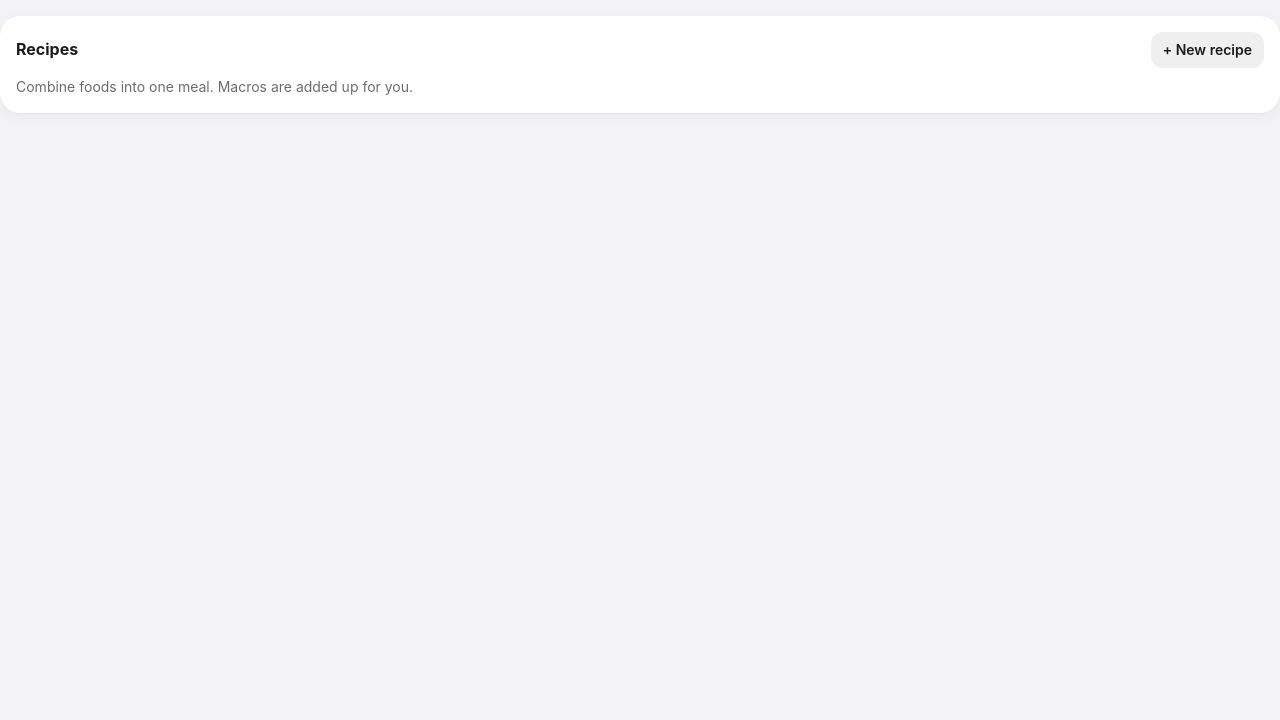
Test case: Recipes card › builds a recipe from ingredients and saves the summed macros
Later steps or results of the test are not shown.
Click the button "+ New recipe" at [1207, 50], box x1=1151 y1=32 x2=1264 y2=68
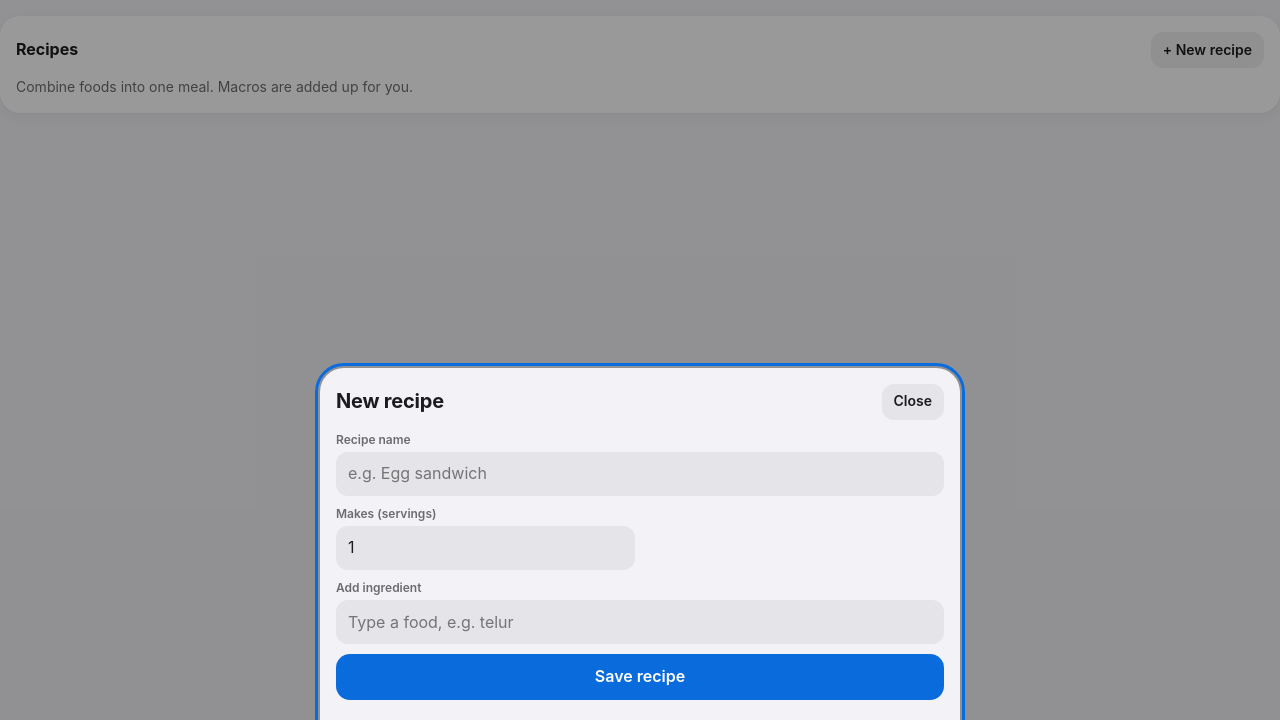
Type "Teh telur" into the field with placeholder "e.g. Egg sandwich" at [640, 474], box x1=336 y1=452 x2=944 y2=496
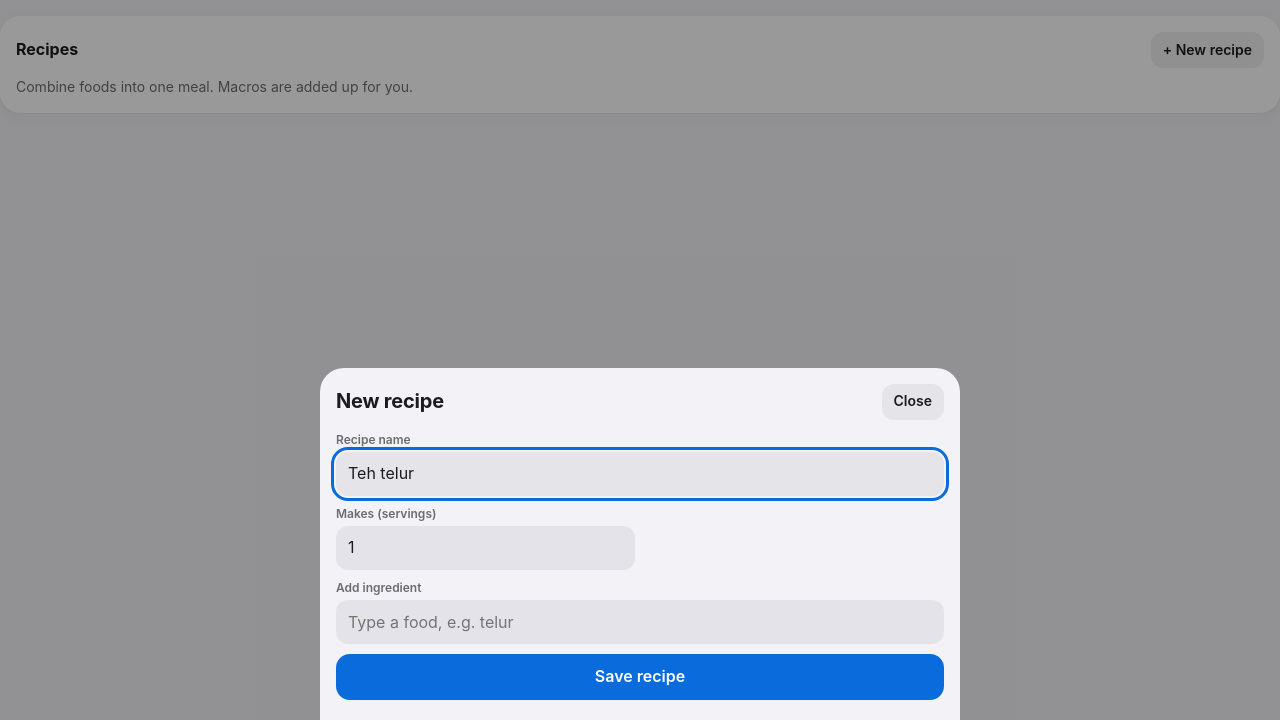
Type "nasi lemak" into the field with placeholder "Type a food, e.g. telur" at [640, 622], box x1=336 y1=600 x2=944 y2=644
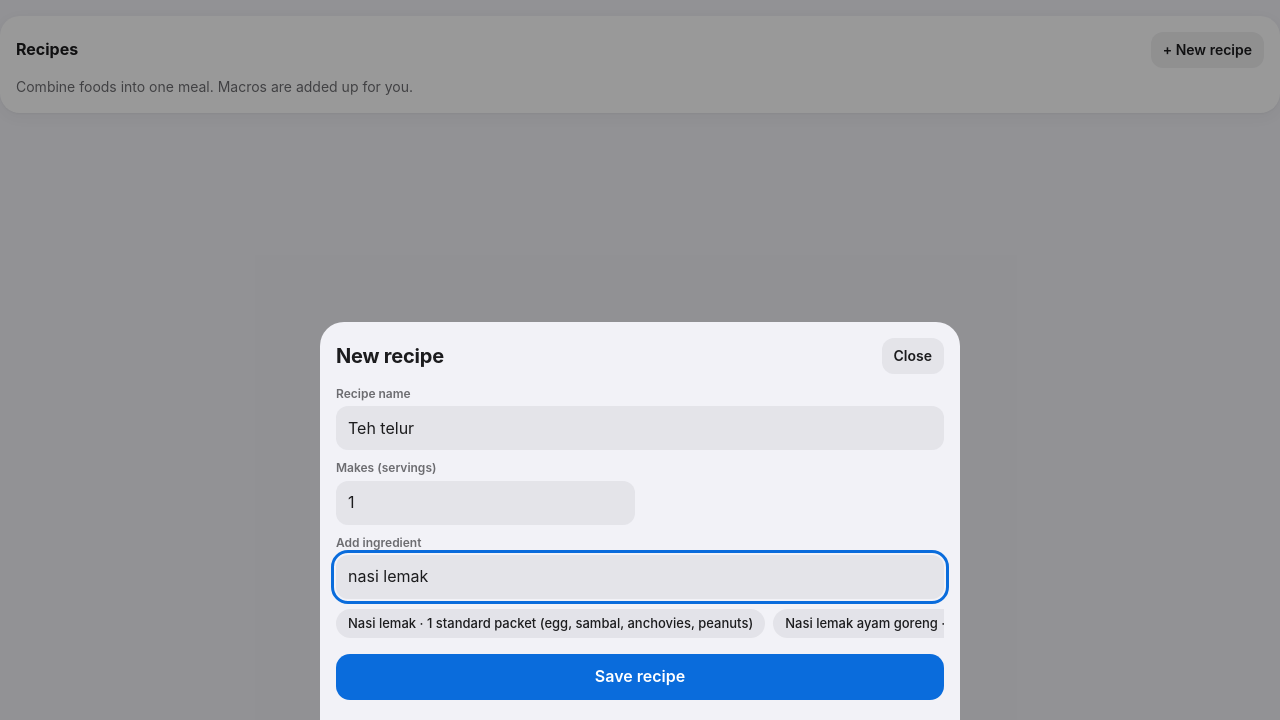
Click the button "Nasi lemak" at [551, 624], box x1=336 y1=609 x2=765 y2=638
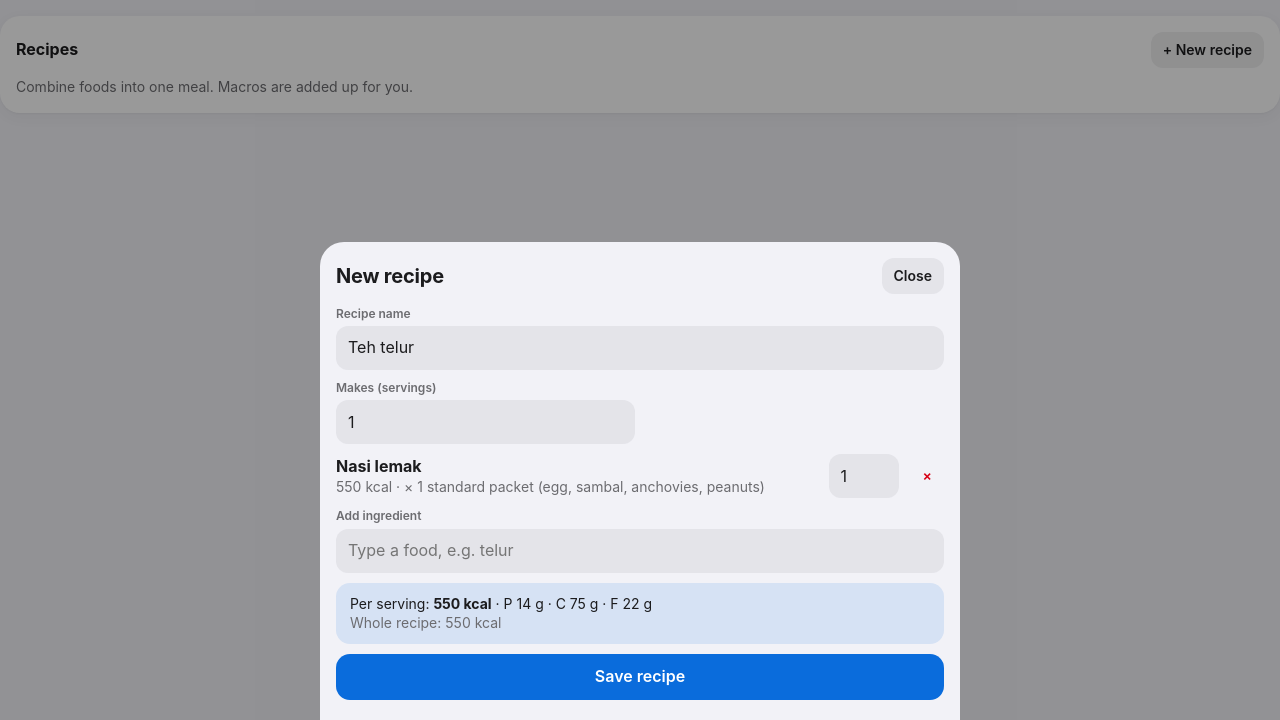
expect the text "Per serving: 550 kcal · P 14 g · C 75 g · F 22 g Whole recipe: 550 kcal" is shown: met, box x1=336 y1=583 x2=944 y2=644
